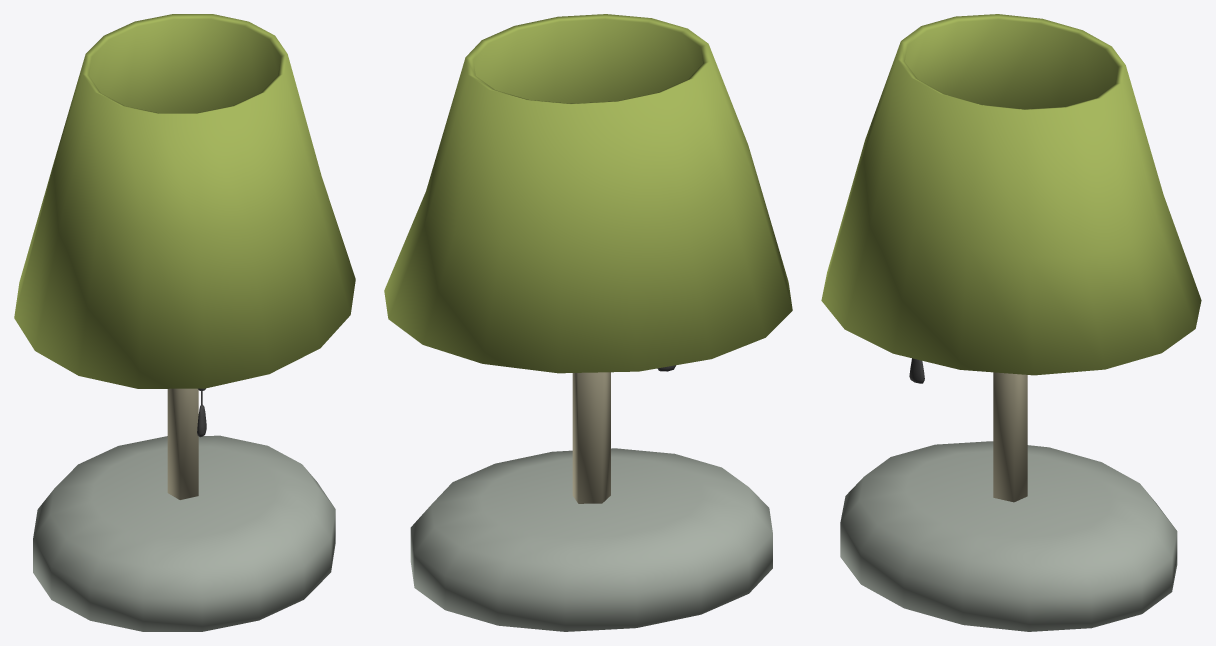
The picture shows the model from 3 angles, left to right: view 1: azimuth 30°, elevation 25°; view 2: azimuth 150°, elevation 25°; view 3: azimuth 270°, elevation 25°; orthographic projection. The views are drawn at different scales.
Parts seen in each view (by area): view 1: prop_book_03_inst_002.009; view 2: prop_book_03_inst_002.009; view 3: prop_book_03_inst_002.009.
Part boxes in pixels (box(x1,y1,x2,y2)): prop_book_03_inst_002.009: box(14, 14, 355, 631); prop_book_03_inst_002.009: box(384, 14, 792, 631); prop_book_03_inst_002.009: box(821, 14, 1201, 631).
Bounding box in the file's own units: 38.1 × 55.65 × 38.32.
